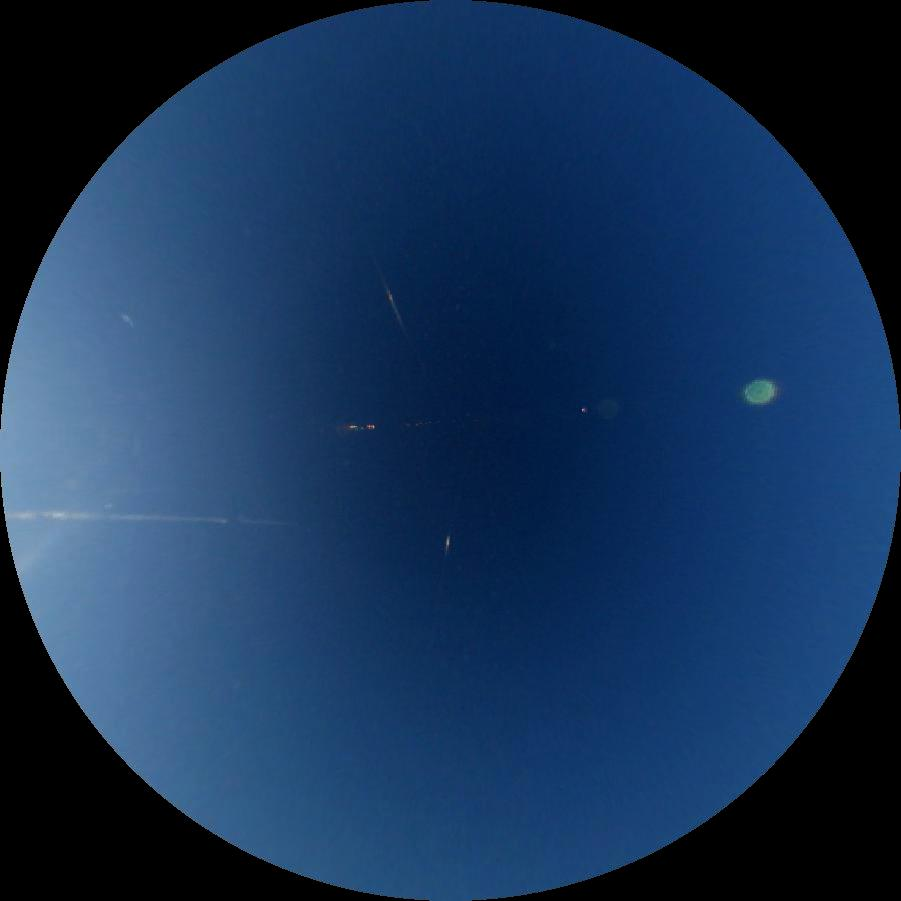parasite: (4, 510, 305, 527), (378, 274, 410, 338), (444, 534, 451, 558)
